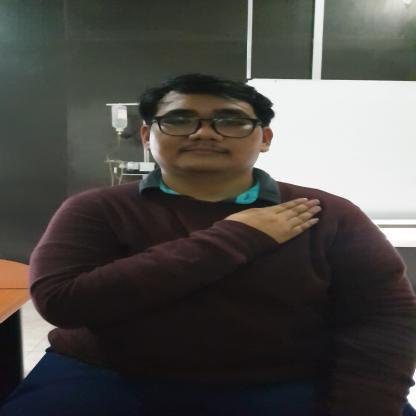Saya: (200, 196, 326, 258)
